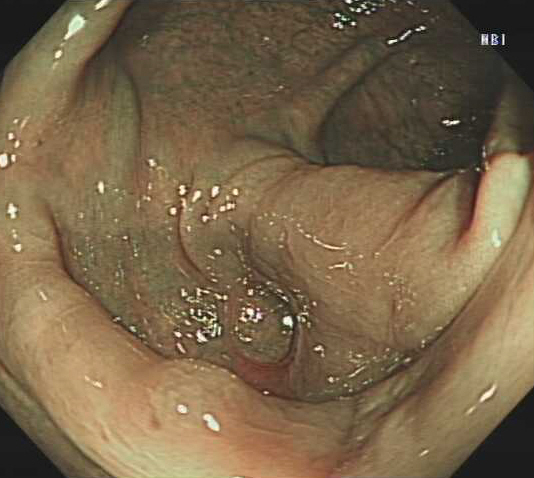others: (132, 357, 253, 437)
